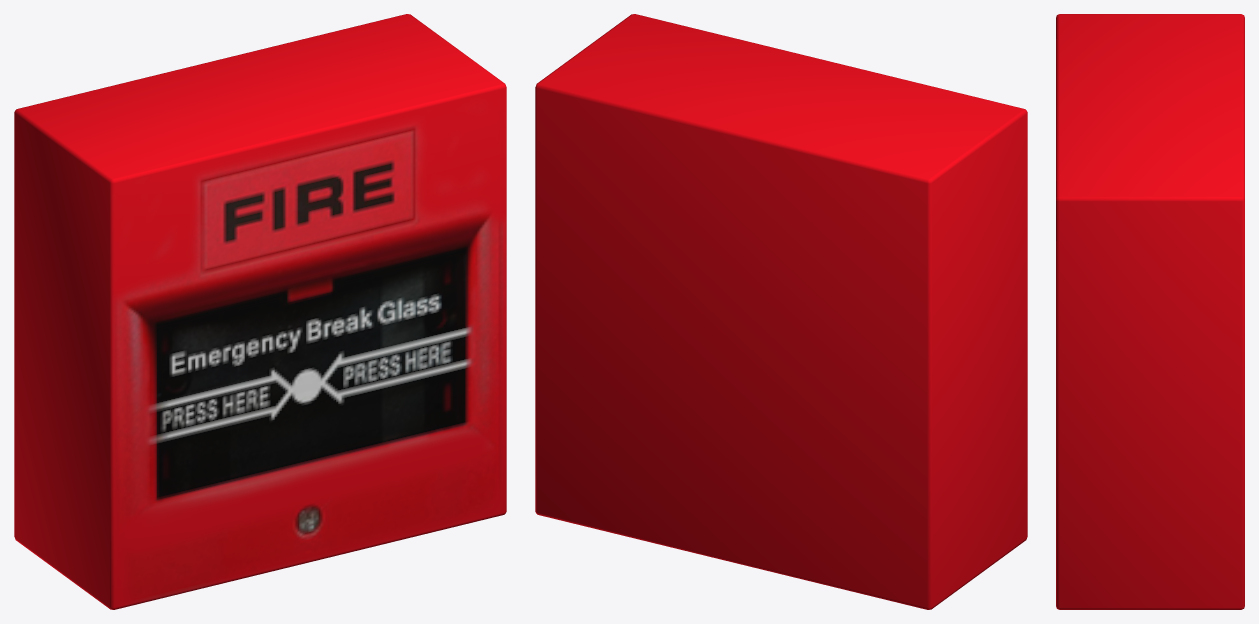
Rendered from fire box.FBX.
The picture shows the model from 3 angles, left to right: view 1: azimuth 30°, elevation 25°; view 2: azimuth 150°, elevation 25°; view 3: azimuth 270°, elevation 25°; orthographic projection. The views are drawn at different scales.
Parts seen in each view (by area): view 1: firebox; view 2: firebox; view 3: firebox.
Part boxes in pixels (x1=…): firebox: x1=14, y1=14, x2=506, y2=609; firebox: x1=535, y1=14, x2=1027, y2=609; firebox: x1=1056, y1=14, x2=1244, y2=609.
Bounding box in the file's own units: 19 × 8.18 × 19.74.
